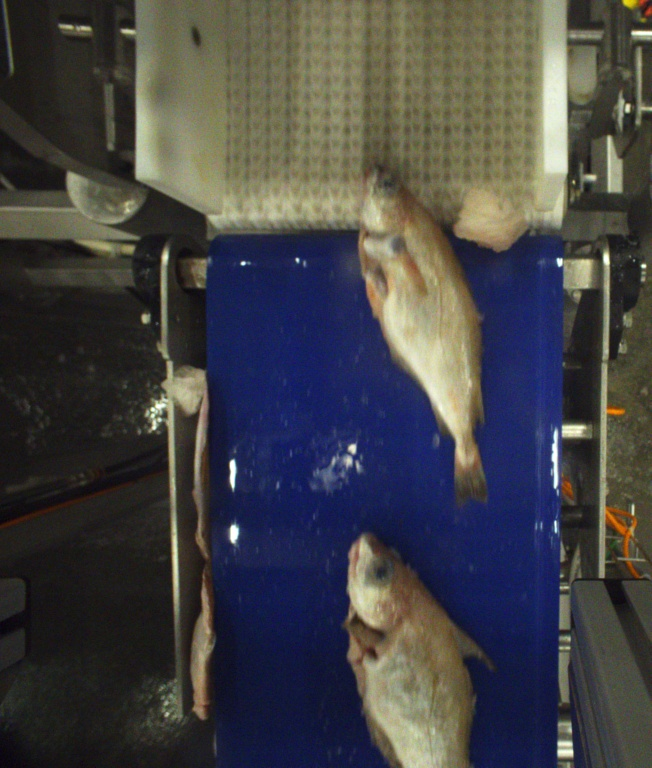BIB: (344, 530, 493, 768)
